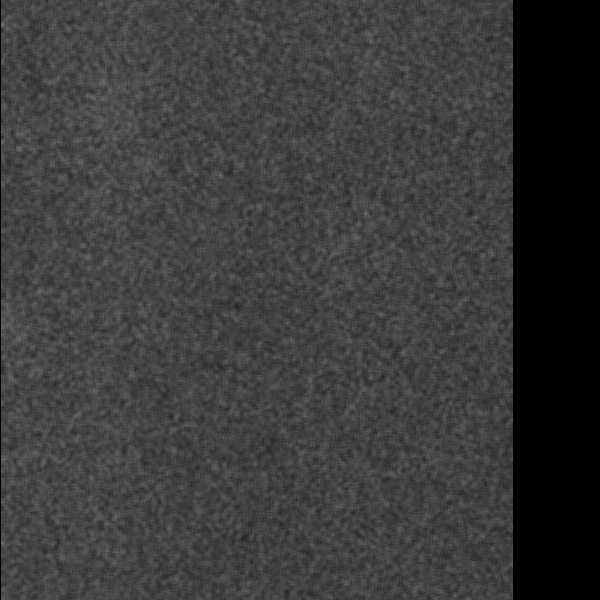spark: (415, 46, 461, 119), (308, 32, 337, 61), (133, 205, 158, 236)
